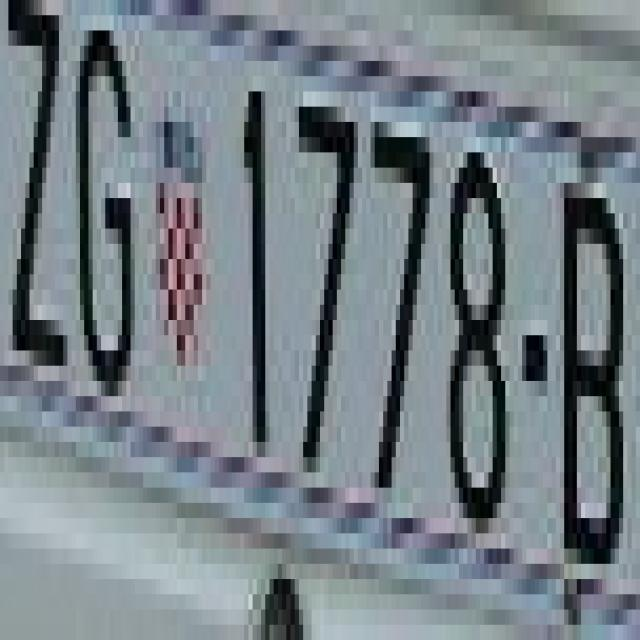1: (227, 46, 274, 457)
7: (366, 91, 429, 488), (286, 76, 350, 457)
8: (442, 137, 505, 533)
B: (548, 168, 632, 579)
G: (67, 15, 135, 396)
Z: (4, 0, 54, 350)
